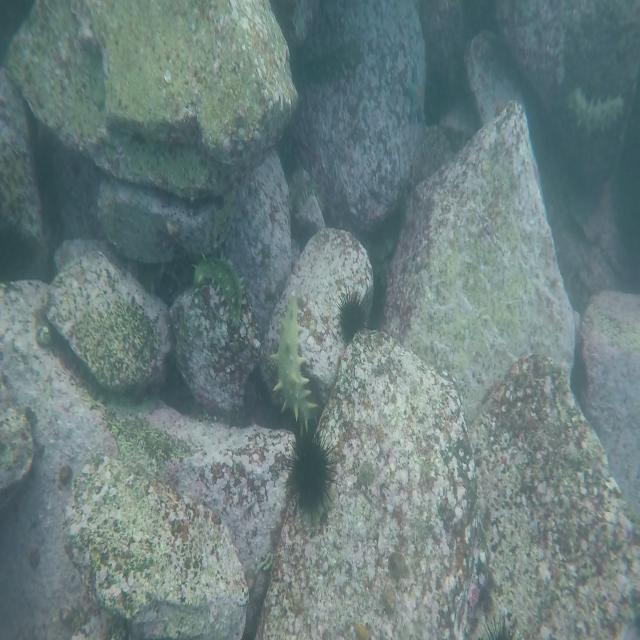echinus: (286, 430, 338, 515), (335, 288, 368, 348)
holothurian: (272, 303, 316, 426), (191, 253, 245, 330), (296, 37, 365, 86), (568, 88, 626, 140)
